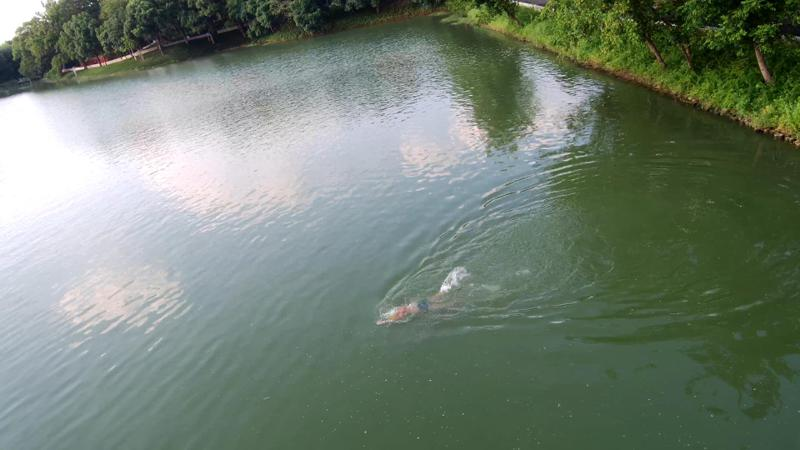swimmers: (375, 290, 463, 326)
